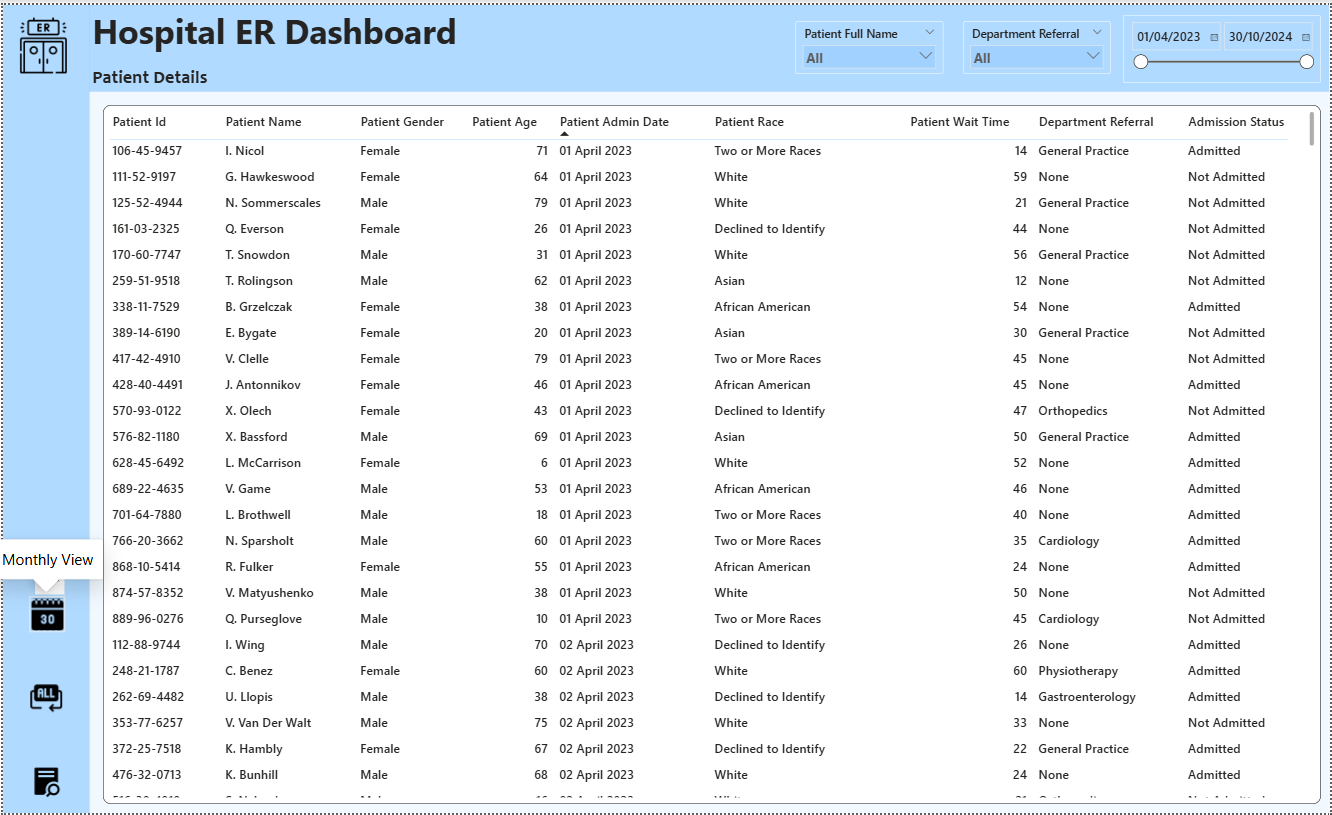

The dashboard page shown, as its layout file describes it:
{"tool":"powerbi","page":{"name":"Patient Details","canvas":[2300,1400],"ordinal":2},"visuals":[{"type":"shape","box":[0,0,150,1400.5],"z":0},{"type":"shape","box":[150.1,0,2148.8,150.1],"z":1000},{"type":"textbox","box":[150.1,0,1083.8,98.5],"z":2000},{"type":"textbox","box":[150.1,98.5,269.8,51.6],"z":3000},{"type":"slicer","fields":{"Values":["Date Table.Date"]},"box":[1940,16.4,342.5,117.3],"z":4000},{"type":"image","box":[21.1,21.1,97,97],"z":5000},{"type":"tableEx","fields":{"Values":["Hospital ER_Data.Patient Id","Hospital ER_Data.Patient Full Name","Hospital ER_Data.Patient Gender","Sum(Hospital ER_Data.Patient Age)","Hospital ER_Data.Patient Admin Date","Hospital ER_Data.Patient Race","Sum(Hospital ER_Data.Patient Waittime)","Hospital ER_Data.Department Referral","Hospital ER_Data.Admission Status"]},"box":[173.6,173.6,2108.9,1210.5],"z":6000},{"type":"actionButton","box":[44.6,1024.3,63.3,63.3],"z":7000},{"type":"actionButton","box":[42.2,1168.6,63.3,63.3],"z":8000},{"type":"actionButton","box":[42.2,1312.8,63.3,63.3],"z":9000},{"type":"slicer","fields":{"Values":["Hospital ER_Data.Department Referral"]},"box":[1663.2,28.2,255.7,91.5],"z":10000},{"type":"slicer","fields":{"Values":["Hospital ER_Data.Patient Full Name"]},"box":[1372.3,28.2,255.7,91.5],"z":11000}]}

Visuals, with their boxes in screenshot pixels (x1, y1, x2, y2), scaled from the page's 2300x1400 canvas onto the 1332x815 screenshot:
shape: crop(0, 0, 87, 814)
shape: crop(87, 0, 1331, 87)
textbox: crop(87, 0, 715, 57)
textbox: crop(87, 57, 243, 87)
slicer - Date Table.Date: crop(1124, 10, 1322, 78)
image: crop(12, 12, 68, 69)
tableEx - Hospital ER_Data.Patient Id x Hospital ER_Data.Patient Full Name: crop(101, 101, 1322, 806)
actionButton: crop(26, 596, 62, 633)
actionButton: crop(24, 680, 61, 717)
actionButton: crop(24, 764, 61, 801)
slicer - Hospital ER_Data.Department Referral: crop(963, 16, 1111, 70)
slicer - Hospital ER_Data.Patient Full Name: crop(795, 16, 943, 70)
